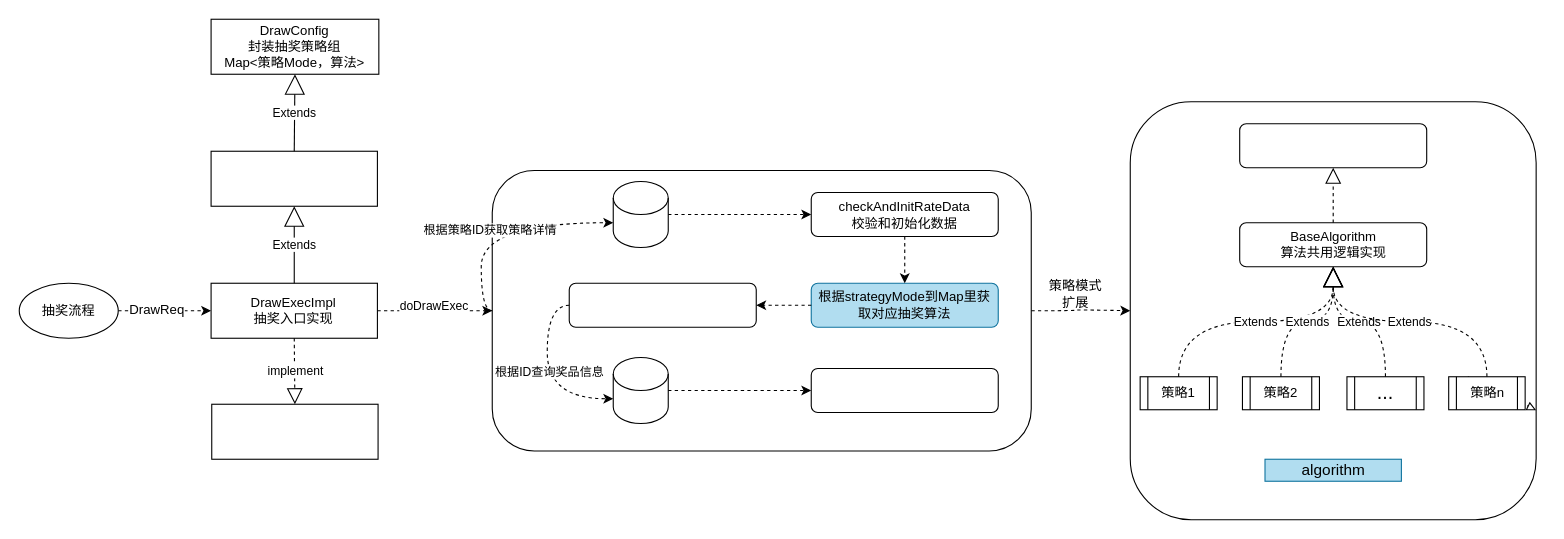
Image size: 1564x539. Some labels were removed from this diagram. The shapes that lost their labels are listed below. From the top down, each one's centre as x and y in pixels, then its label:
(1333,145): IDrawAlgorithm 抽象算法接口
(293,178): DrawBase 抽奖基类
(662,304): 调用抽奖算法randomDraw 进行抽奖，获得奖品ID
(904,390): 借助DrawResult封装响应信息
(294,431): IDrawExec 抽奖接口
